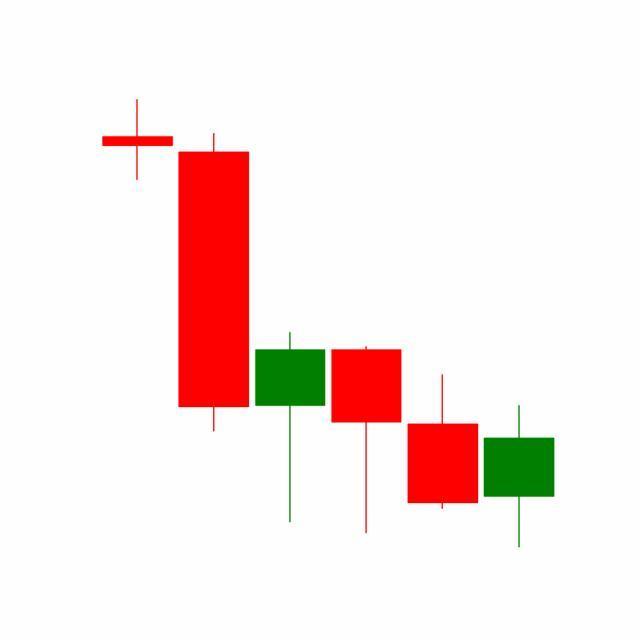Hikkake Pattern: (175, 129, 555, 549)
